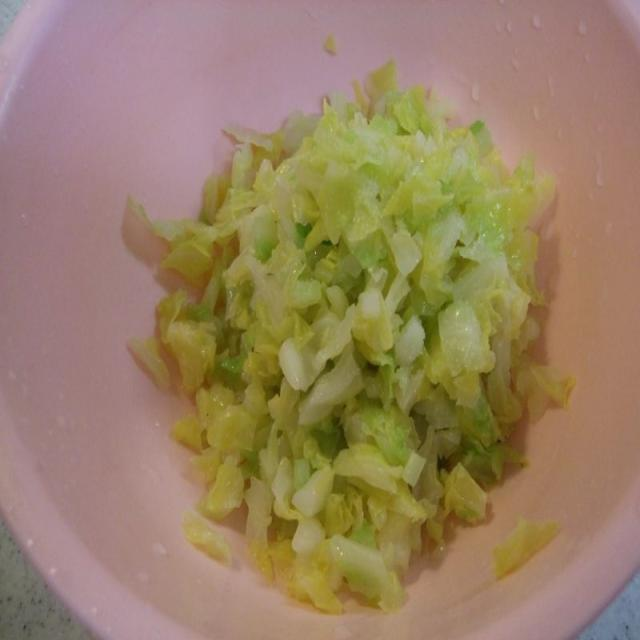蔬菜料理: (138, 36, 576, 625)
